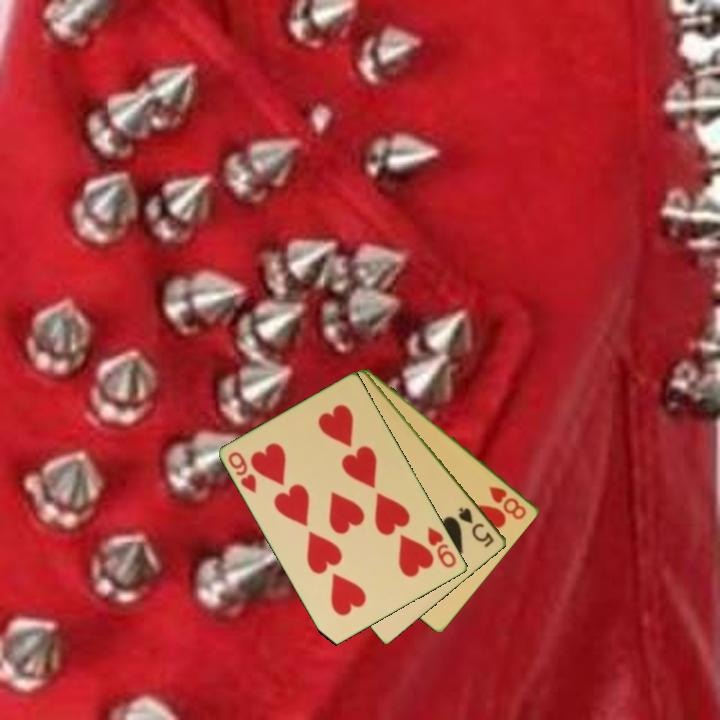5s: (455, 503, 497, 551)
8h: (486, 483, 530, 522)
9h: (424, 523, 460, 571), (225, 448, 260, 496)
